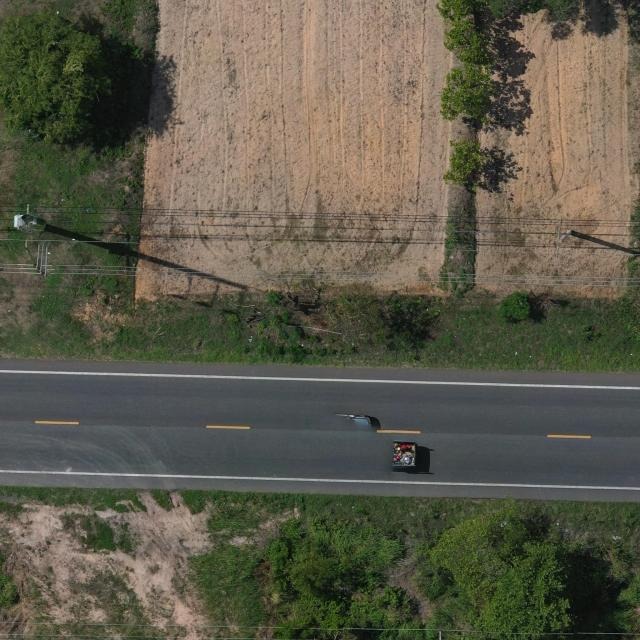tree: (426, 504, 574, 640), (0, 11, 105, 143), (439, 65, 499, 126), (441, 138, 495, 193), (488, 0, 579, 24), (443, 28, 486, 64), (435, 0, 485, 22), (496, 291, 530, 321)
